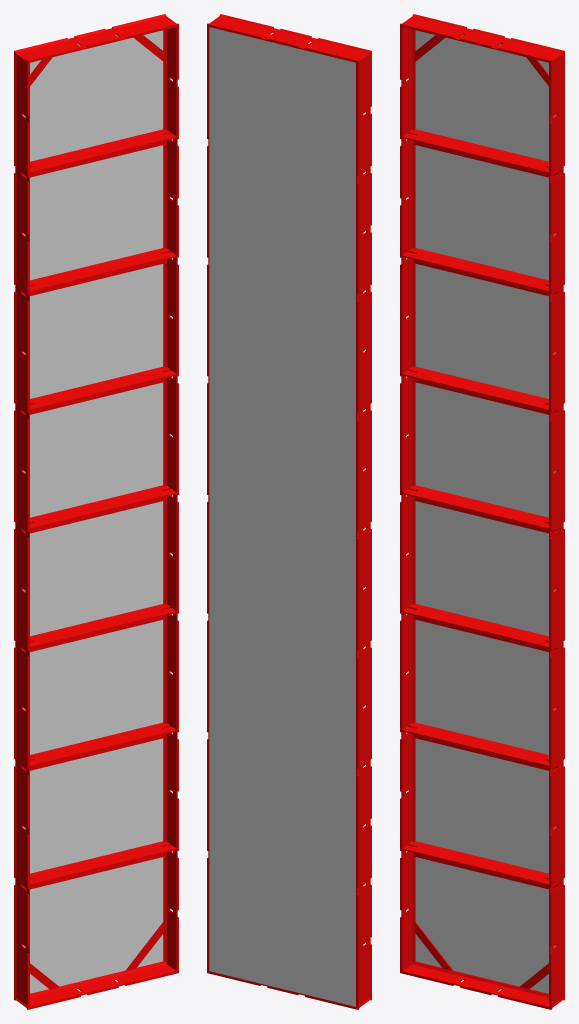
3 renders of one model, left to right at view 1: azimuth 30°, elevation 25°; view 2: azimuth 150°, elevation 25°; view 3: azimuth 330°, elevation 25°, orthographic.
Parts seen in each view (by area): view 1: Sp-16X8-P, Sp-16X8; view 2: Sp-16X8-P, Sp-16X8; view 3: Sp-16X8-P, Sp-16X8.
Part boxes in pixels (box(x1,y1,x2,y2)): Sp-16X8-P: box(22, 30, 163, 993); Sp-16X8: box(14, 14, 178, 1009); Sp-16X8-P: box(209, 27, 355, 1006); Sp-16X8: box(207, 14, 371, 1009); Sp-16X8-P: box(415, 30, 556, 993); Sp-16X8: box(400, 14, 564, 1009).
Size of the model in its own units: 16 by 96 by 2.5.
